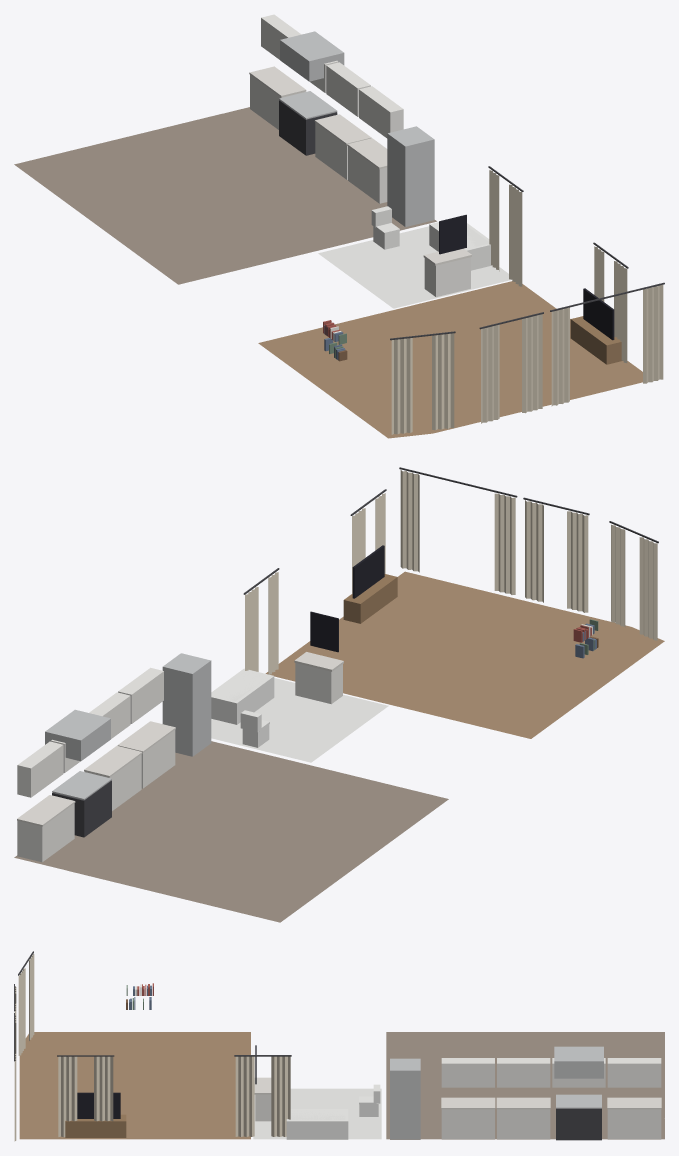
Rendered from fine-s2.glb.
The picture shows the model from 3 angles, top to bottom: view 1: azimuth 30°, elevation 25°; view 2: azimuth 150°, elevation 25°; view 3: azimuth 270°, elevation 25°; orthographic projection. The views are drawn at different scales.
Visible parts, largest first — view 1: soft-s2, range.001, fridge.001, vanity.001, tv-console.002, counter-run.005, counter-run.004, counter-run.003, kitchen-upper.007, kitchen-upper.006, bathtub.001, kitchen-upper.004 (+1 smaller); view 2: soft-s2, range.001, fridge.001, vanity.001, counter-run.003, tv-console.002, bathtub.001, counter-run.005, counter-run.004, kitchen-upper.004, kitchen-upper.007, kitchen-upper.006 (+1 smaller); view 3: soft-s2, range.001, fridge.001, counter-run.003, counter-run.004, counter-run.005, bathtub.001, tv-console.002, kitchen-upper.004, kitchen-upper.006, kitchen-upper.007, vanity.001 (+2 smaller).
Part boxes in pixels (x1,y1,x2,y2): soft-s2: (14,107,664,438); range.001: (279,31,344,155); fridge.001: (387,126,434,226); vanity.001: (423,214,471,297); tv-console.002: (570,288,622,364); counter-run.005: (347,138,387,203); counter-run.004: (314,114,371,179); counter-run.003: (249,66,306,129); kitchen-upper.007: (359,86,403,138); kitchen-upper.006: (326,62,370,116); bathtub.001: (429,222,491,270); kitchen-upper.004: (261,14,301,59); soft-s2: (14,467,664,922); range.001: (45,709,111,837); fridge.001: (162,653,211,756); vanity.001: (294,611,343,704); counter-run.003: (17,795,75,862); tv-console.002: (343,545,397,623); bathtub.001: (211,668,274,724); counter-run.005: (117,721,175,788); counter-run.004: (84,746,142,810); kitchen-upper.004: (17,741,63,797); kitchen-upper.007: (118,667,163,723); kitchen-upper.006: (89,692,130,738); soft-s2: (14,951,664,1141); range.001: (554,1046,603,1140); fridge.001: (390,1058,420,1139); counter-run.003: (607,1097,661,1139); counter-run.004: (496,1097,550,1139); counter-run.005: (441,1097,495,1139); bathtub.001: (286,1109,348,1139); tv-console.002: (65,1092,126,1137); kitchen-upper.004: (607,1058,661,1087); kitchen-upper.006: (497,1058,550,1087); kitchen-upper.007: (441,1058,494,1087); vanity.001: (254,1045,271,1121).
Bounding box in the file's own units: 6.85 × 2.4 × 17.04.
